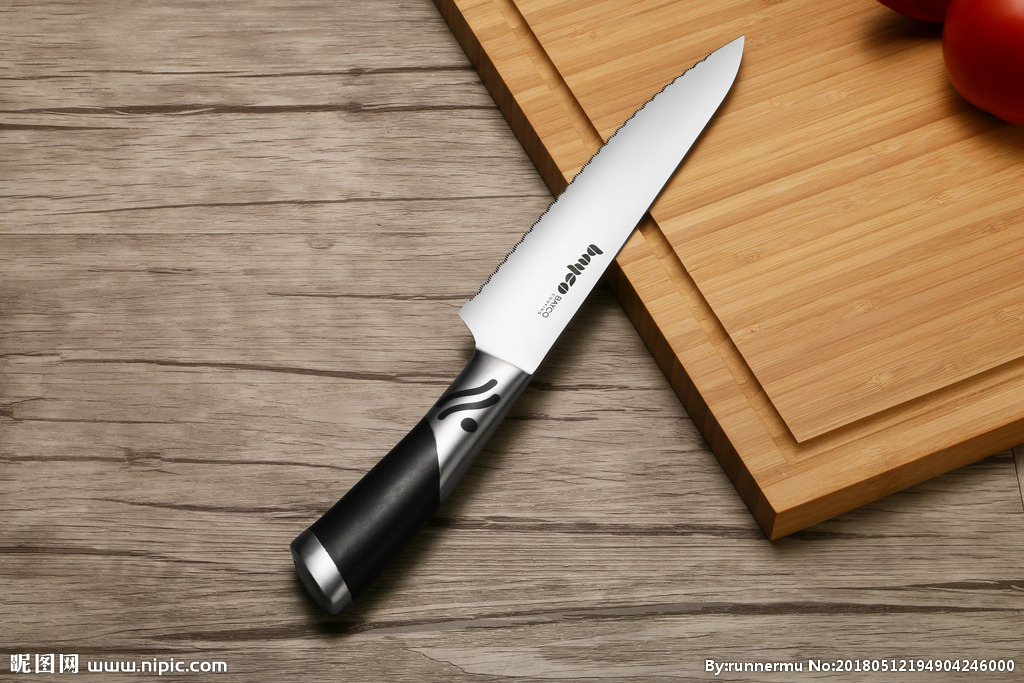knief: (235, 33, 799, 602)
